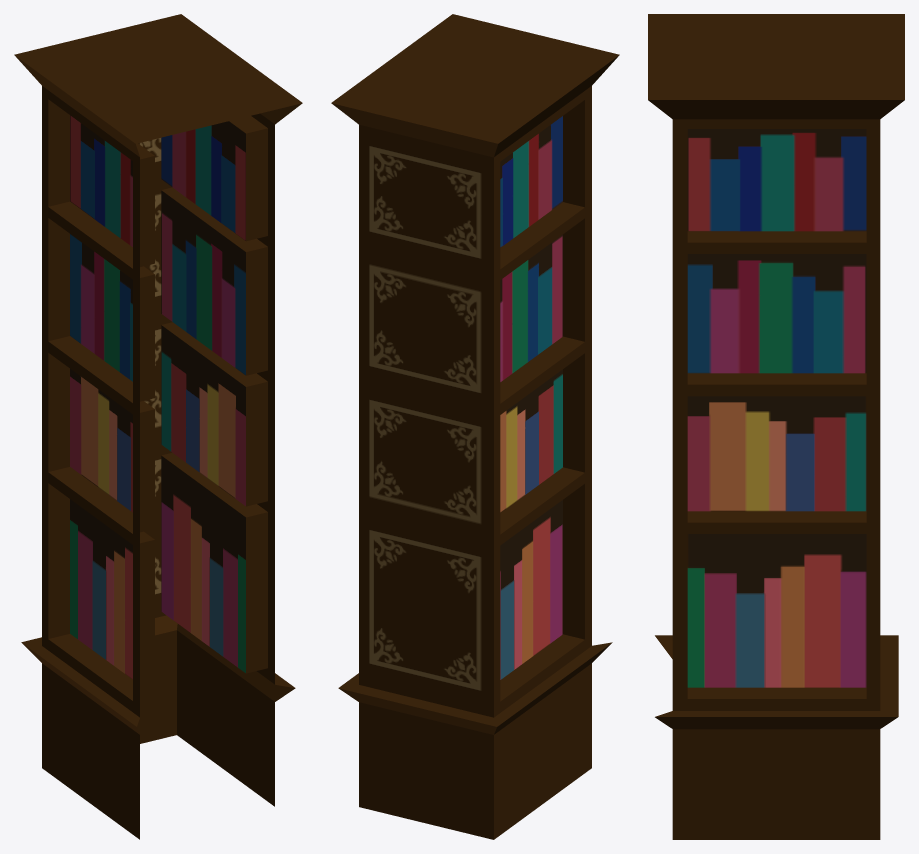
File: shelf.fbx
3 renders of one model, left to right at view 1: azimuth 30°, elevation 25°; view 2: azimuth 150°, elevation 25°; view 3: azimuth 270°, elevation 25°, orthographic. The views are drawn at different scales.
Visible parts, largest first — view 1: shelf1; view 2: shelf1; view 3: shelf1.
Part boxes in pixels (box(x1,y1,x2,y2)): shelf1: box(14, 14, 302, 839); shelf1: box(331, 14, 619, 839); shelf1: box(648, 14, 904, 839).
Size of the model in its own units: 99.06 by 401 by 125.
1 material, 1 textured.
